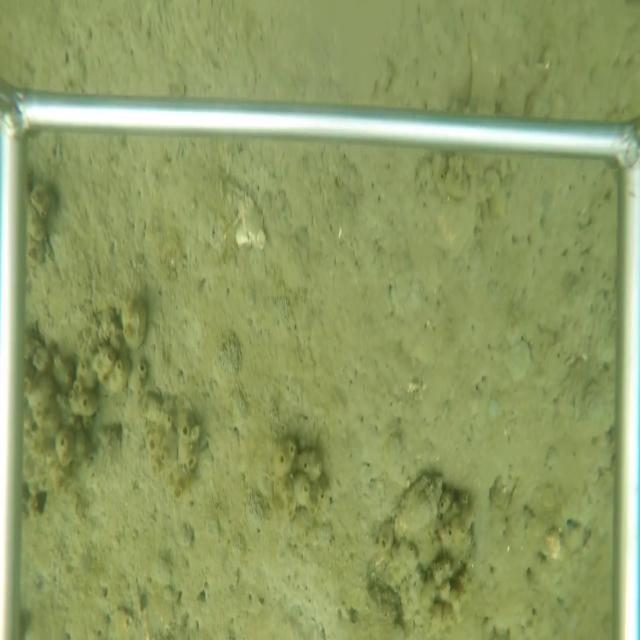Oyster-Indeterminate: (392, 468, 445, 542)
